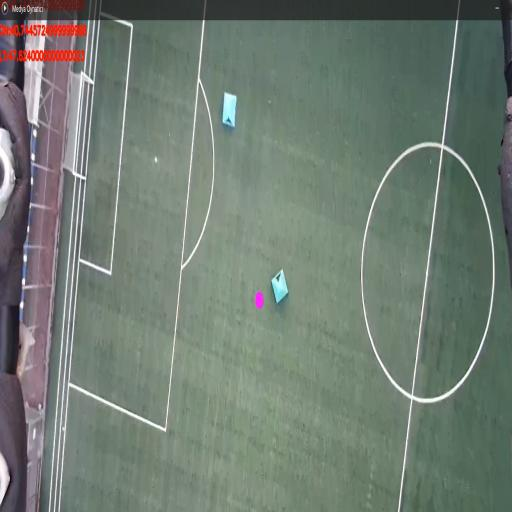tent: (270, 266, 290, 305), (222, 90, 238, 129)
